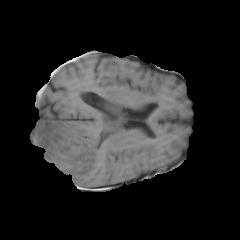glioma: (33, 120, 101, 180)
